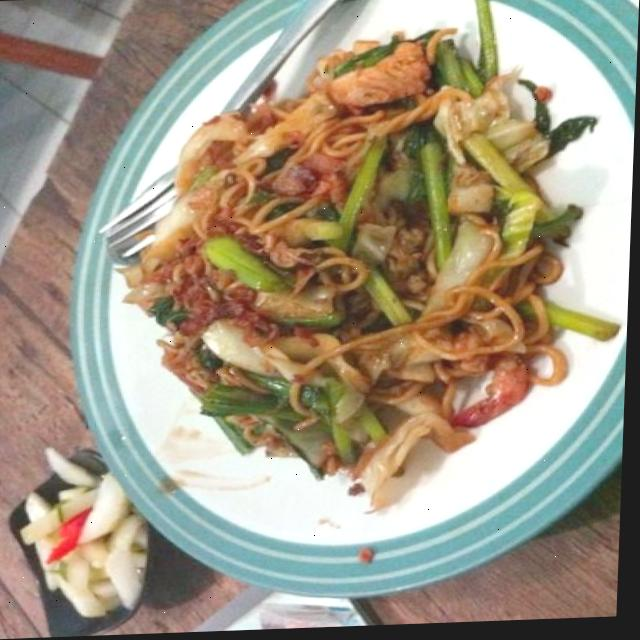面条主食: (68, 0, 640, 526)
